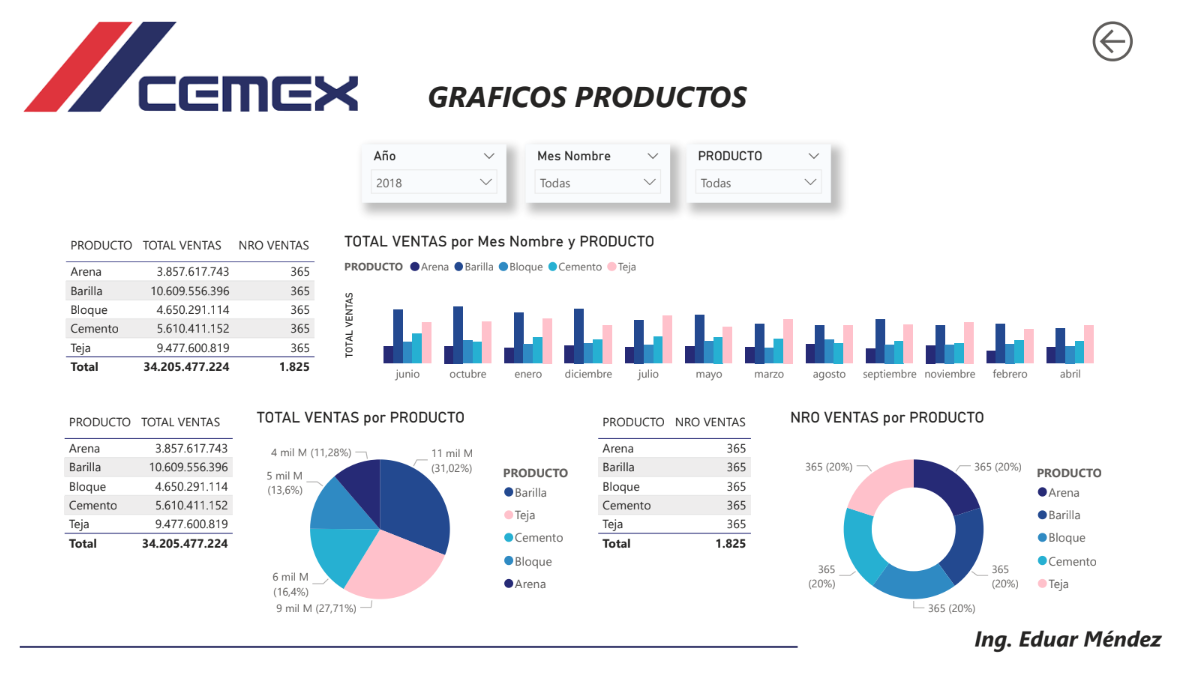

What the dashboard file says about the page in this screenshot:
{"tool":"powerbi","page":{"name":"GRÁFICOS ","canvas":[1280,720],"ordinal":2},"visuals":[{"type":"tableEx","fields":{"Values":["VENTAS_DIARIAS.Producto","Mis Medias.TOTAL VENTAS","Mis Medias.NRO VENTAS"]},"box":[45.3,239.5,286.4,176.4],"z":0},{"type":"textbox","box":[446.6,61.5,389.9,74.4],"z":1000},{"type":"clusteredColumnChart","fields":{"Y":["Mis Medias.TOTAL VENTAS"],"Series":["VENTAS_DIARIAS.PRODUCTO"],"Category":["CALENDARIO.Mes Nombre"]},"box":[354.3,239.5,867.2,176.4],"z":2000},{"type":"image","box":[0,0,378.7,113.6],"z":3000},{"type":"tableEx","fields":{"Values":["VENTAS_DIARIAS.PRODUCTO","Mis Medias.TOTAL VENTAS"]},"box":[43.7,435.2,213.6,179.6],"z":4000},{"type":"pieChart","fields":{"Y":["Mis Medias.TOTAL VENTAS"],"Category":["VENTAS_DIARIAS.PRODUCTO"]},"box":[257.3,435.2,373.8,249.2],"z":5000},{"type":"tableEx","fields":{"Values":["VENTAS_DIARIAS.PRODUCTO","Mis Medias.NRO VENTAS"]},"box":[634.7,434.4,213.6,179.6],"z":6000},{"type":"donutChart","fields":{"Y":["Mis Medias.NRO VENTAS"],"Category":["VENTAS_DIARIAS.PRODUCTO"]},"box":[847.8,435.2,373.8,249.2],"z":7000},{"type":"slicer","fields":{"Values":["CALENDARIO.Año Jerarquía.Año"]},"box":[378.6,142.4,160.2,64.7],"z":8000},{"type":"slicer","fields":{"Values":["VENTAS_DIARIAS.PRODUCTO"]},"box":[737.8,142.4,160.2,64.7],"z":9000},{"type":"slicer","fields":{"Values":["CALENDARIO.Año Jerarquía.Mes Nombre"]},"box":[559.8,142.4,160.2,64.7],"z":10000},{"type":"textbox","box":[1052.3,667.8,227.7,52.3],"z":11000},{"type":"shape","box":[0,679.6,860.8,40.4],"z":12000},{"type":"actionButton","box":[1180.5,0,99.5,57.3],"z":12001}]}

Visuals, with their boxes in screenshot pixels (x1, y1, x2, y2), scaled from the page's 1280x720 canvas onto the 1193x680 screenshot:
tableEx - VENTAS_DIARIAS.Producto x Mis Medias.TOTAL VENTAS: rect(42, 226, 309, 393)
textbox: rect(416, 58, 780, 128)
clusteredColumnChart - Mis Medias.TOTAL VENTAS x VENTAS_DIARIAS.PRODUCTO: rect(330, 226, 1138, 393)
image: rect(0, 0, 353, 107)
tableEx - VENTAS_DIARIAS.PRODUCTO x Mis Medias.TOTAL VENTAS: rect(41, 411, 240, 581)
pieChart - Mis Medias.TOTAL VENTAS x VENTAS_DIARIAS.PRODUCTO: rect(240, 411, 588, 646)
tableEx - VENTAS_DIARIAS.PRODUCTO x Mis Medias.NRO VENTAS: rect(592, 410, 791, 580)
donutChart - Mis Medias.NRO VENTAS x VENTAS_DIARIAS.PRODUCTO: rect(790, 411, 1139, 646)
slicer - CALENDARIO.Año Jerarquía.Año: rect(353, 134, 502, 196)
slicer - VENTAS_DIARIAS.PRODUCTO: rect(688, 134, 837, 196)
slicer - CALENDARIO.Año Jerarquía.Mes Nombre: rect(522, 134, 671, 196)
textbox: rect(981, 631, 1192, 679)
shape: rect(0, 642, 802, 679)
actionButton: rect(1100, 0, 1192, 54)
